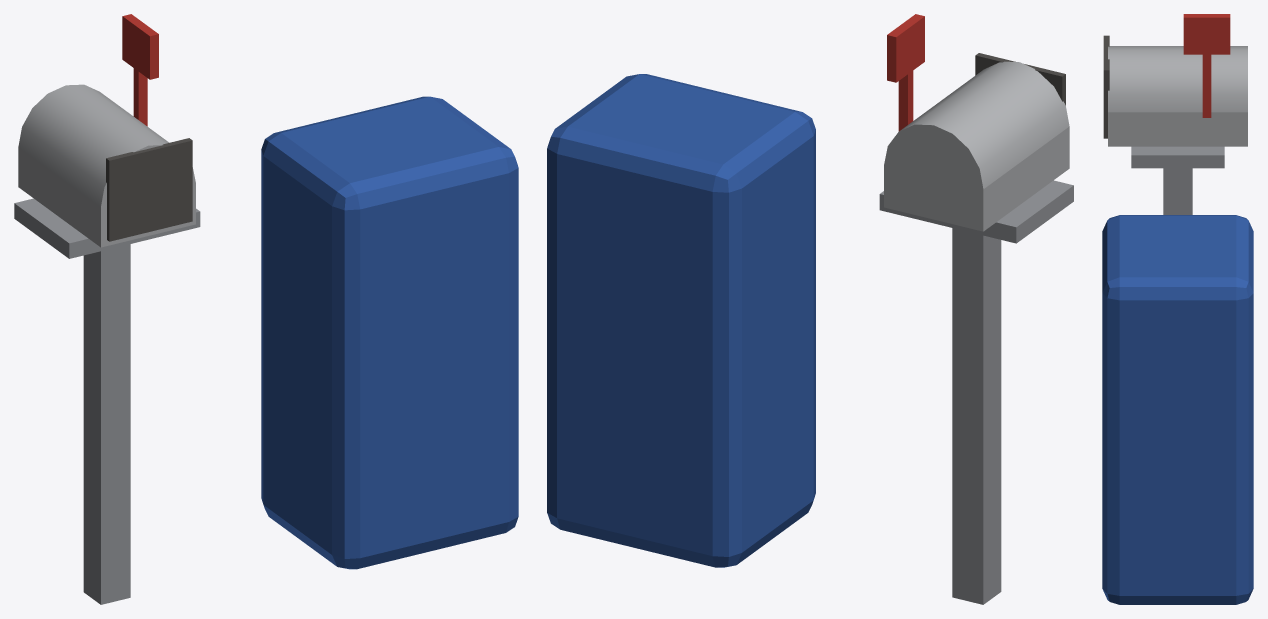
The model's file is city_mailbox.fbx.
3 renders of one model, left to right at view 1: azimuth 30°, elevation 25°; view 2: azimuth 150°, elevation 25°; view 3: azimuth 270°, elevation 25°, orthographic. The views are drawn at different scales.
Parts seen in each view (by area): view 1: blue_1, steel_1, galv_1, trimdk_1, red_1; view 2: blue_1, galv_1, steel_1, red_1, trimdk_1; view 3: blue_1, galv_1, steel_1, red_1, trimdk_1.
Part boxes in pixels (left/top/right/bottom): blue_1: left=261, top=96, right=518, bottom=569; steel_1: left=14, top=198, right=200, bottom=604; galv_1: left=18, top=84, right=195, bottom=247; trimdk_1: left=106, top=138, right=192, bottom=241; red_1: left=122, top=14, right=158, bottom=126; blue_1: left=547, top=74, right=815, bottom=567; galv_1: left=884, top=61, right=1069, bottom=231; steel_1: left=879, top=180, right=1073, bottom=604; red_1: left=887, top=14, right=924, bottom=131; trimdk_1: left=975, top=53, right=1065, bottom=105; blue_1: left=1102, top=215, right=1253, bottom=604; galv_1: left=1108, top=46, right=1247, bottom=146; steel_1: left=1131, top=146, right=1224, bottom=214; red_1: left=1183, top=14, right=1230, bottom=117; trimdk_1: left=1103, top=35, right=1109, bottom=138.
Size of the model in its own units: 0.148 by 0.175 by 0.052.
